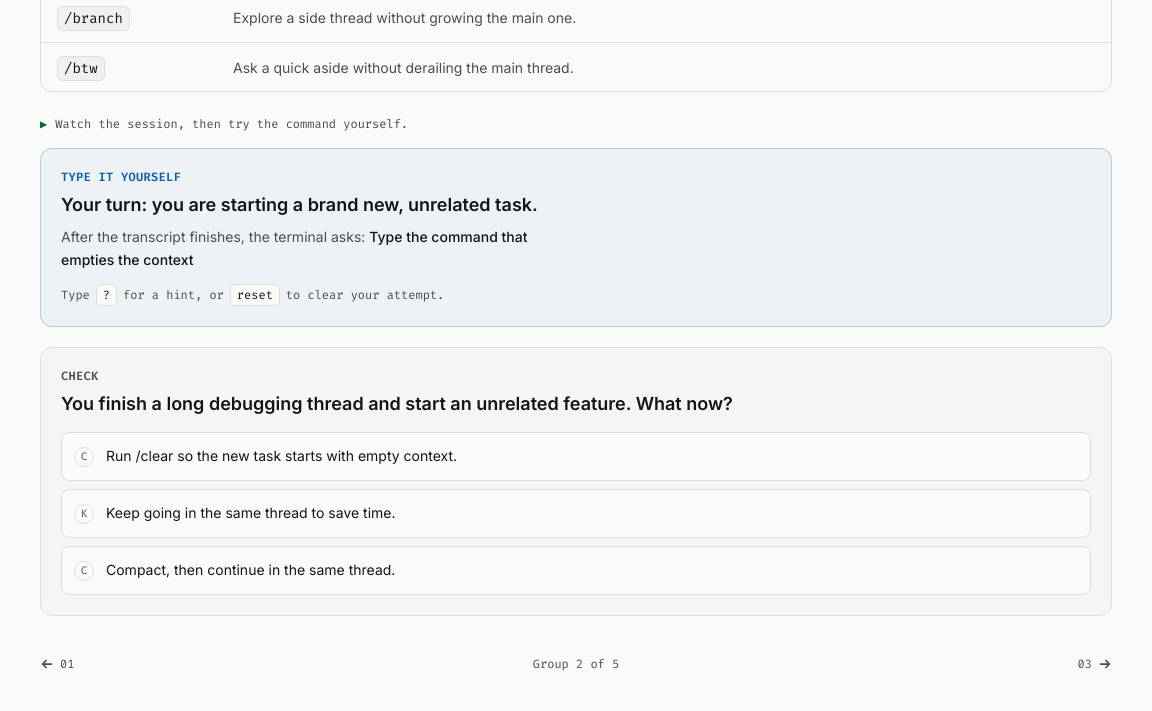
Test: the check explains a wrong answer then a right one
(page scrolled)
Click the button "K Keep going in the same thread to save time.": (251, 513) 61,489 -> 1091,538
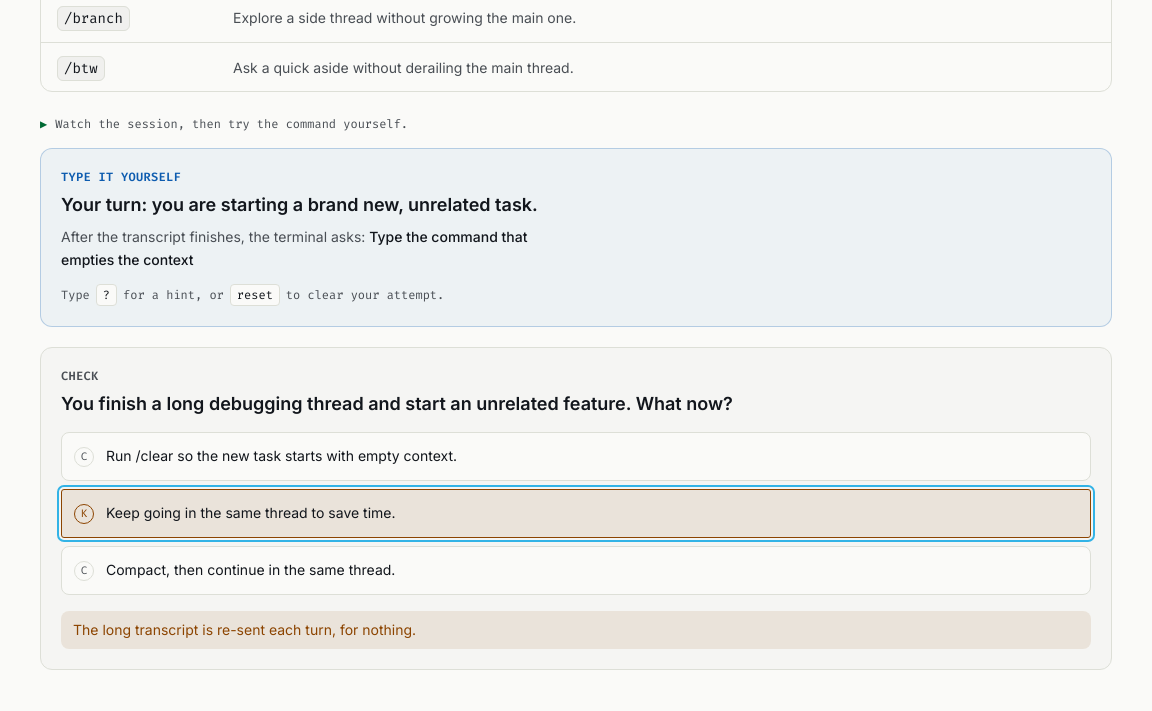
Expected: the text "The long transcript is re-sent each turn, for nothing." is shown, 61,611 -> 1091,650
Click the button "C Run /clear so the new task starts with empty context.": (282, 456) 61,432 -> 1091,481
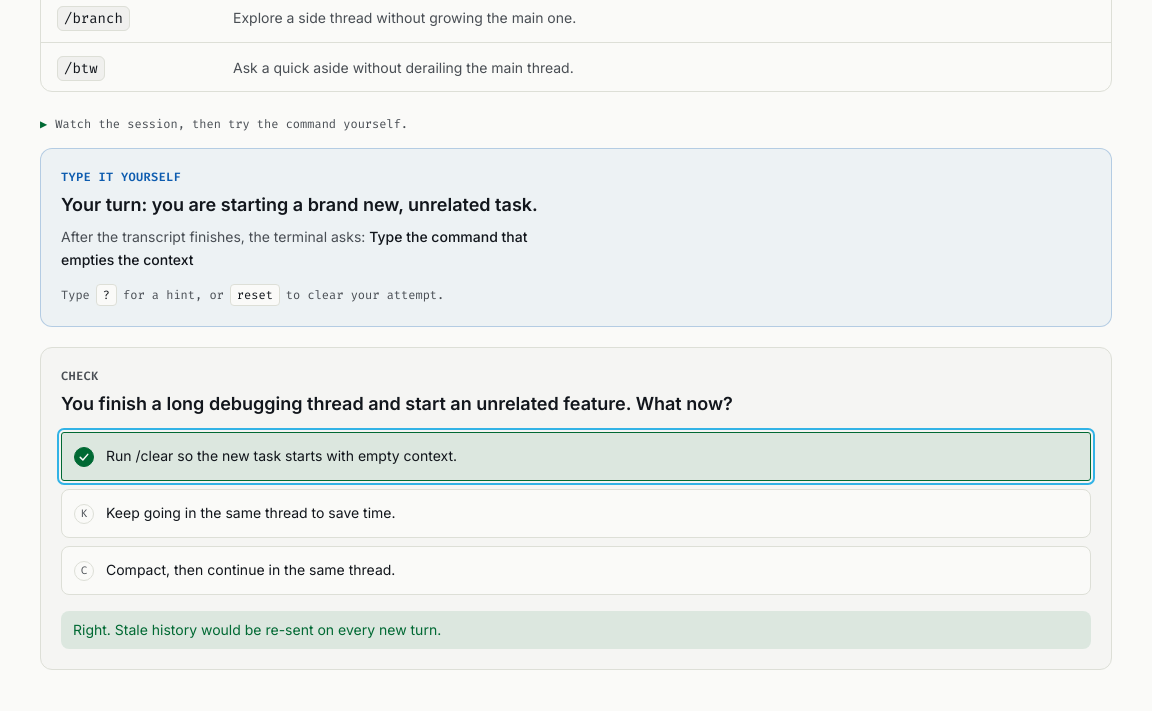
Expected: the text "Right. Stale history would be re-sent on every new turn." is shown, 61,611 -> 1091,650
